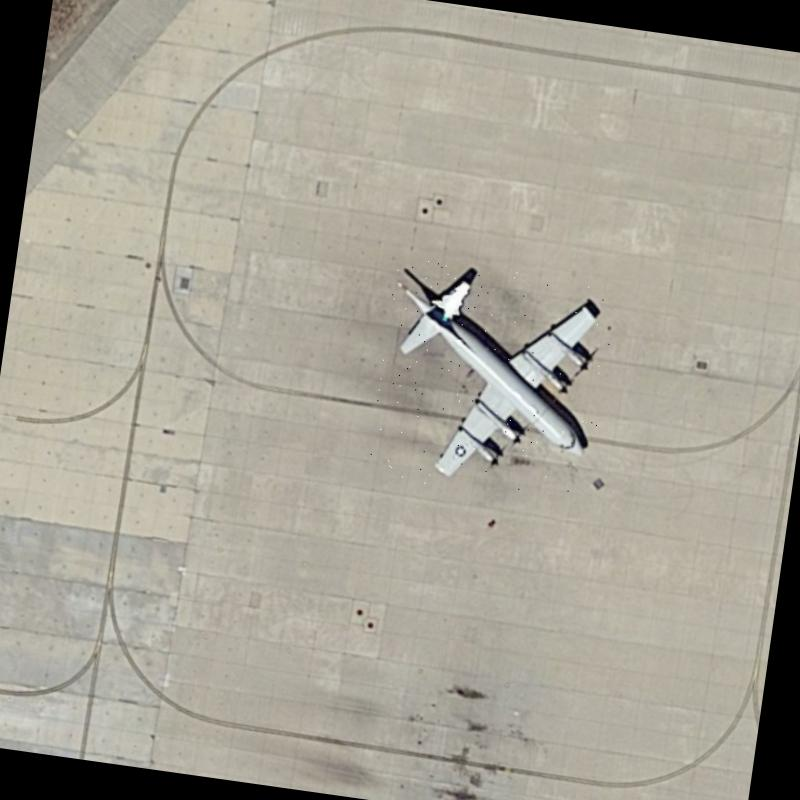A9: (366, 255, 617, 506)
